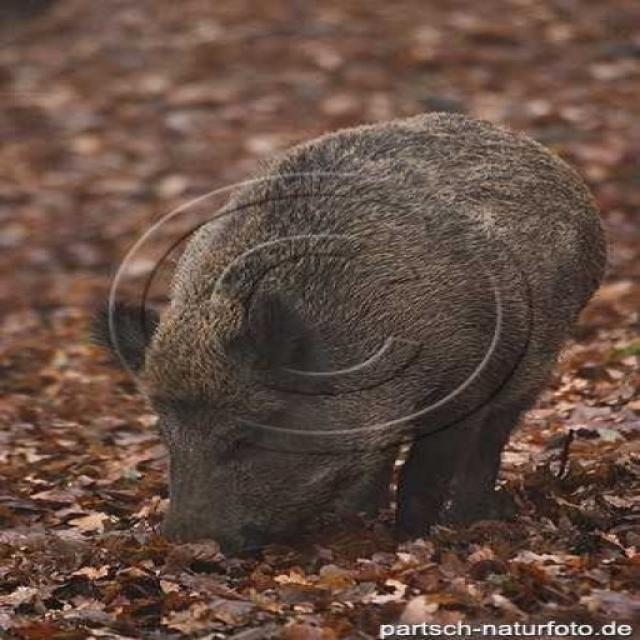pig: (122, 127, 595, 568)
